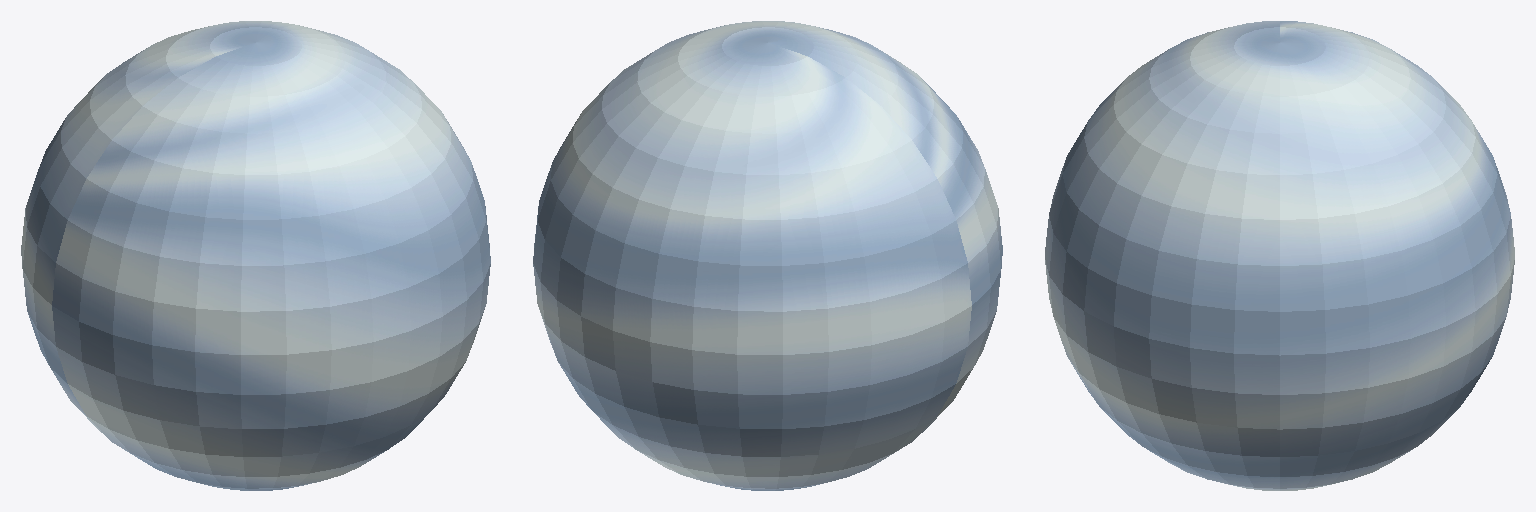
3 renders of one model, left to right at view 1: azimuth 30°, elevation 25°; view 2: azimuth 150°, elevation 25°; view 3: azimuth 270°, elevation 25°, orthographic.
Visible parts, largest first — view 1: Sphere16; view 2: Sphere16; view 3: Sphere16.
Boxes of the visible parts, <box> form: Sphere16: <box>21,21,490,490</box>; Sphere16: <box>533,21,1002,490</box>; Sphere16: <box>1045,21,1514,490</box>.
Size of the model in its own units: 2 by 2 by 2.
1 materials, 1 textured.